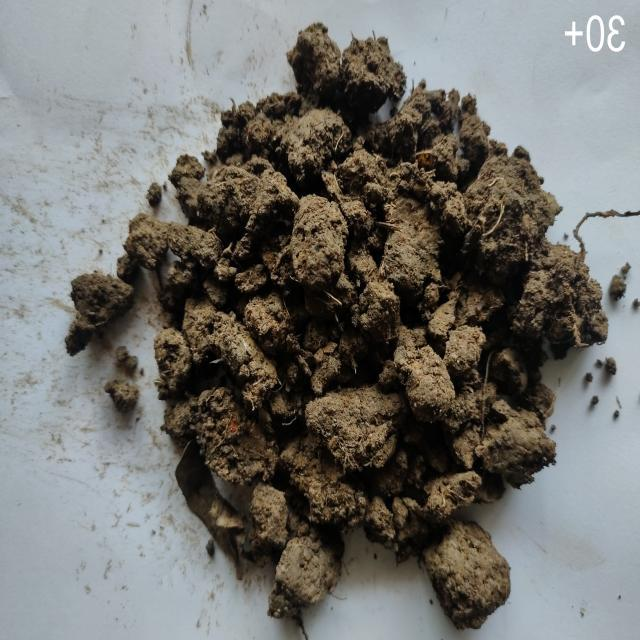soil: (228, 140, 478, 506)
